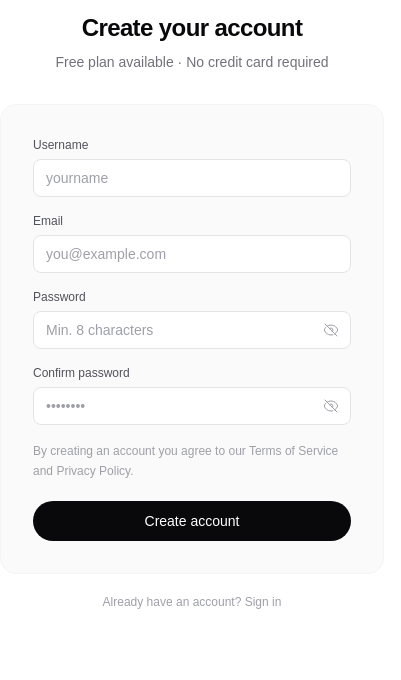
RegisterForm › client-side validation › shows an error when username is empty
Type "test@example.com" into the field labelled "Email" at (192,254), box [33,235,351,273]
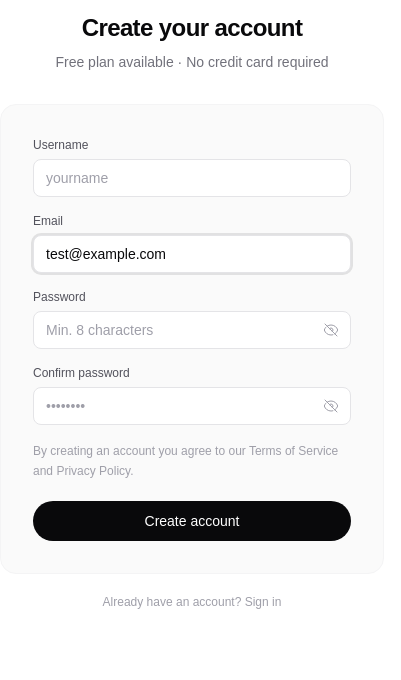
Type "password123" into the password field labelled "Password" at (192,330), box [33,311,351,349]
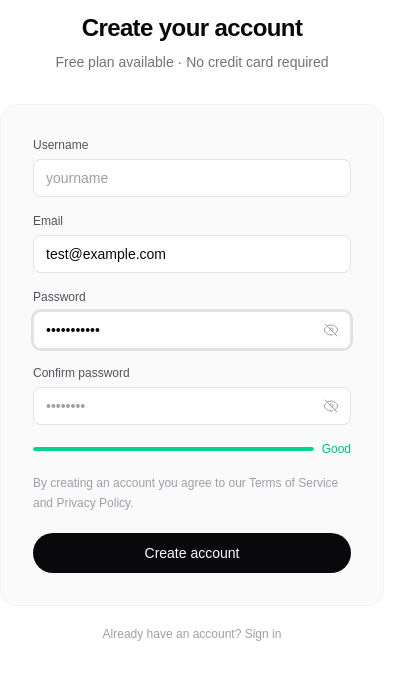
Type "password123" into the password field labelled "Confirm password" at (192,406), box [33,387,351,425]
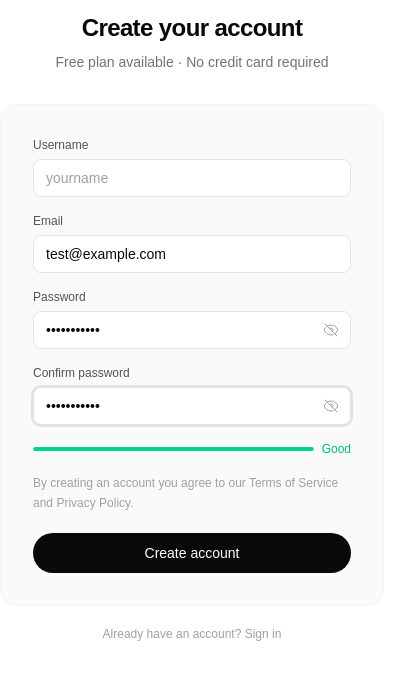
Click the button "Create account" at (192,553), box [33,533,351,573]
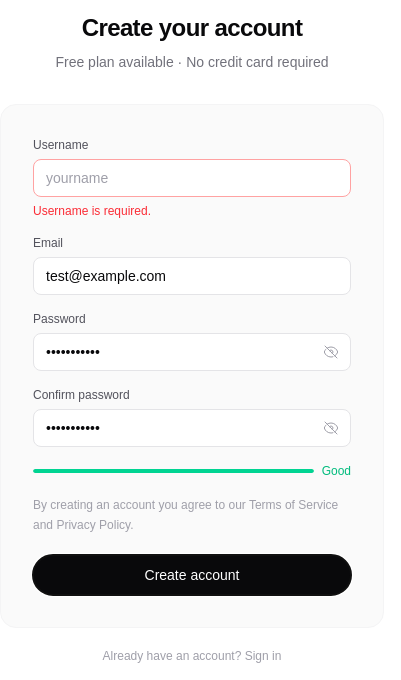
Check: the text "Username is required." is shown, box [33,204,151,218]
